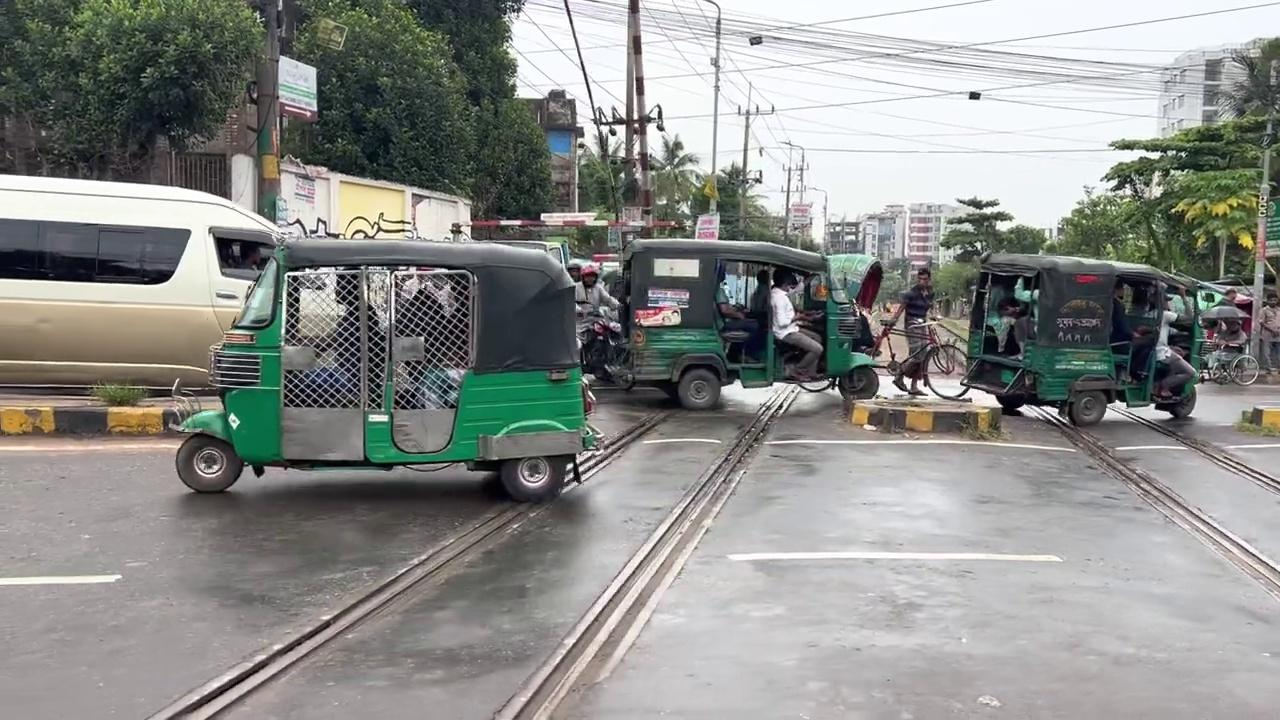Curb: (573, 300, 627, 383)
Fence: (882, 267, 937, 395)
Garbage: (623, 1, 653, 229), (253, 1, 283, 223), (1249, 121, 1274, 366)
Motorcycle: (145, 400, 678, 717), (492, 380, 801, 717)
Rickshaw: (162, 226, 599, 502), (607, 237, 884, 410), (960, 249, 1202, 426)
